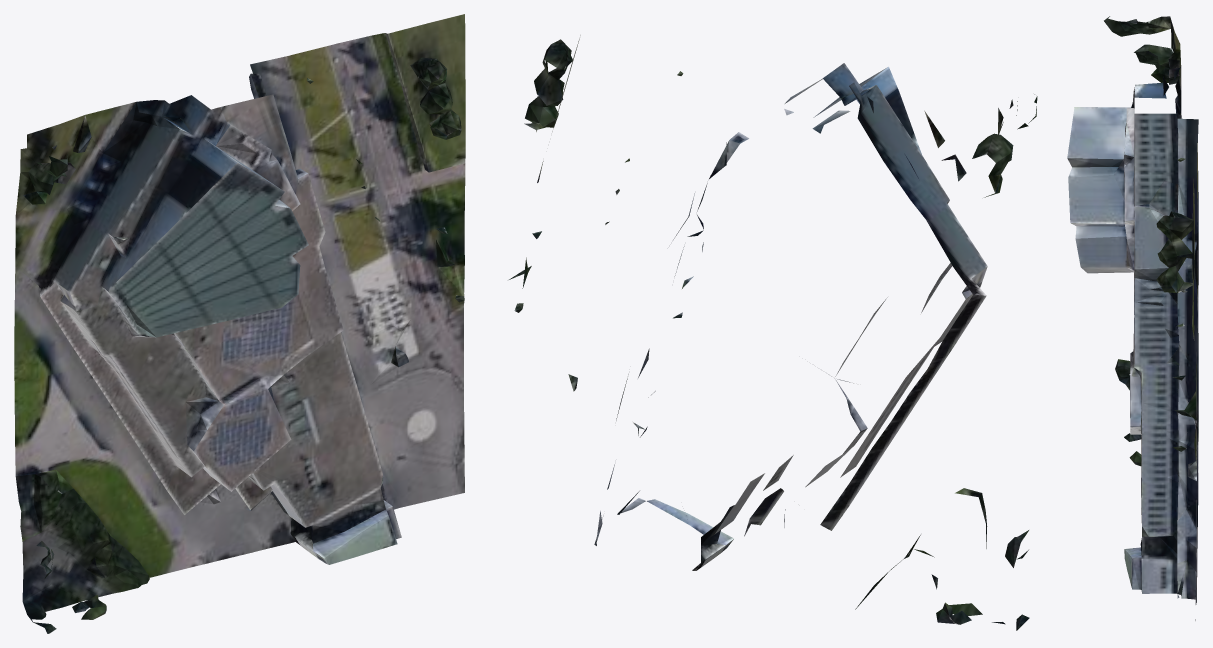
File: Tile_+032_+023_L17_0002.glb
3 renders of one model, left to right at view 1: azimuth 30°, elevation 25°; view 2: azimuth 150°, elevation 25°; view 3: azimuth 270°, elevation 25°, orthographic. The views are drawn at different scales.
Size of the model in its own units: 126 by 126 by 35.53.
1 material, 1 textured.
